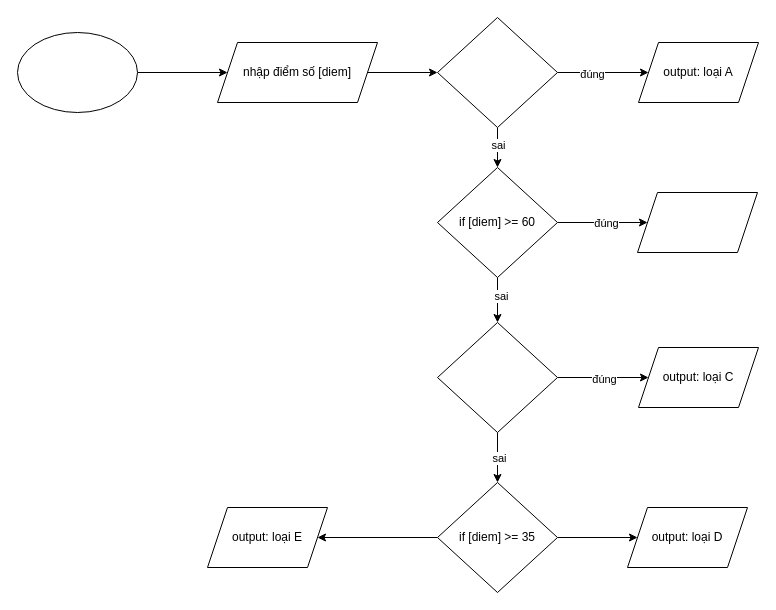
This 776x610 diagram has some shape labels left out. The shapes that lost their labels are listed below. From the top down, each one's box as (x1, y1, x2, y2) in pixels, then its label:
(16, 32, 138, 112): Begin
(436, 16, 558, 128): if [diem] >= 75
(636, 192, 758, 252): output: loại B
(436, 322, 558, 432): if [diem] >= 45
